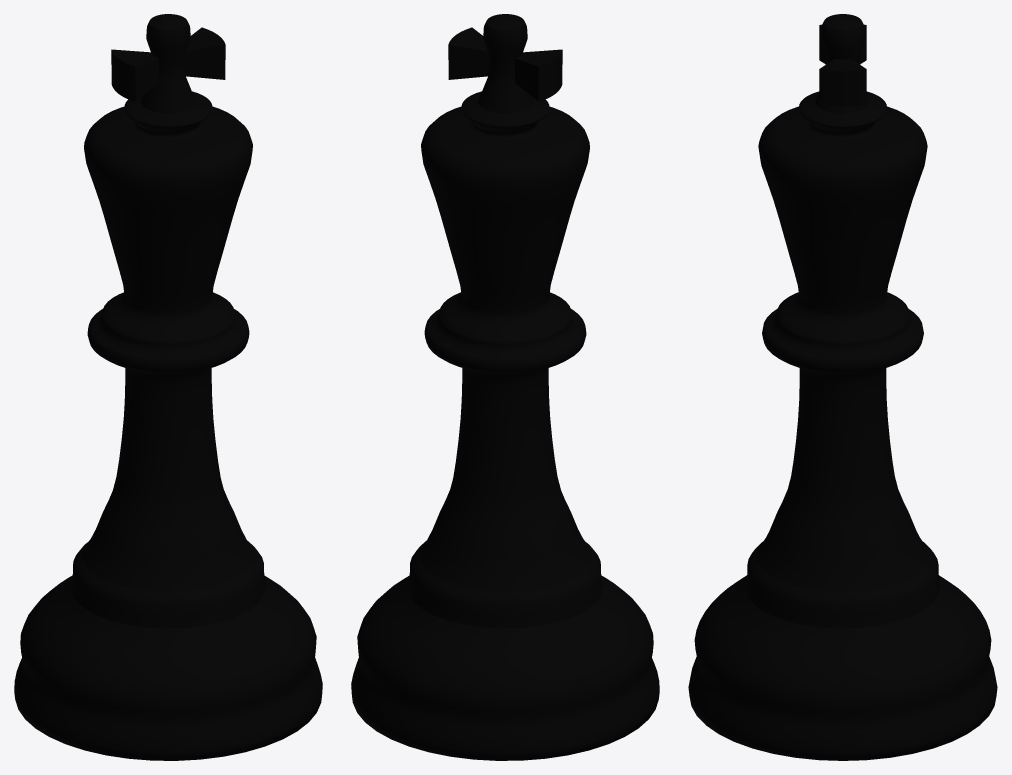
Rendered from Rey_Negro.glb.
The picture shows the model from 3 angles, left to right: view 1: azimuth 30°, elevation 25°; view 2: azimuth 150°, elevation 25°; view 3: azimuth 270°, elevation 25°; orthographic projection.
Visible parts, largest first — view 1: rey_b; view 2: rey_b; view 3: rey_b.
Boxes of the visible parts, box(x1,y1,x2,y2) form: rey_b: box(14, 14, 322, 760); rey_b: box(351, 14, 659, 760); rey_b: box(688, 14, 997, 760).
Bounding box in the file's own units: 0.8213 × 2.01 × 0.8213.
Materials: 1 (1 with a texture image).
